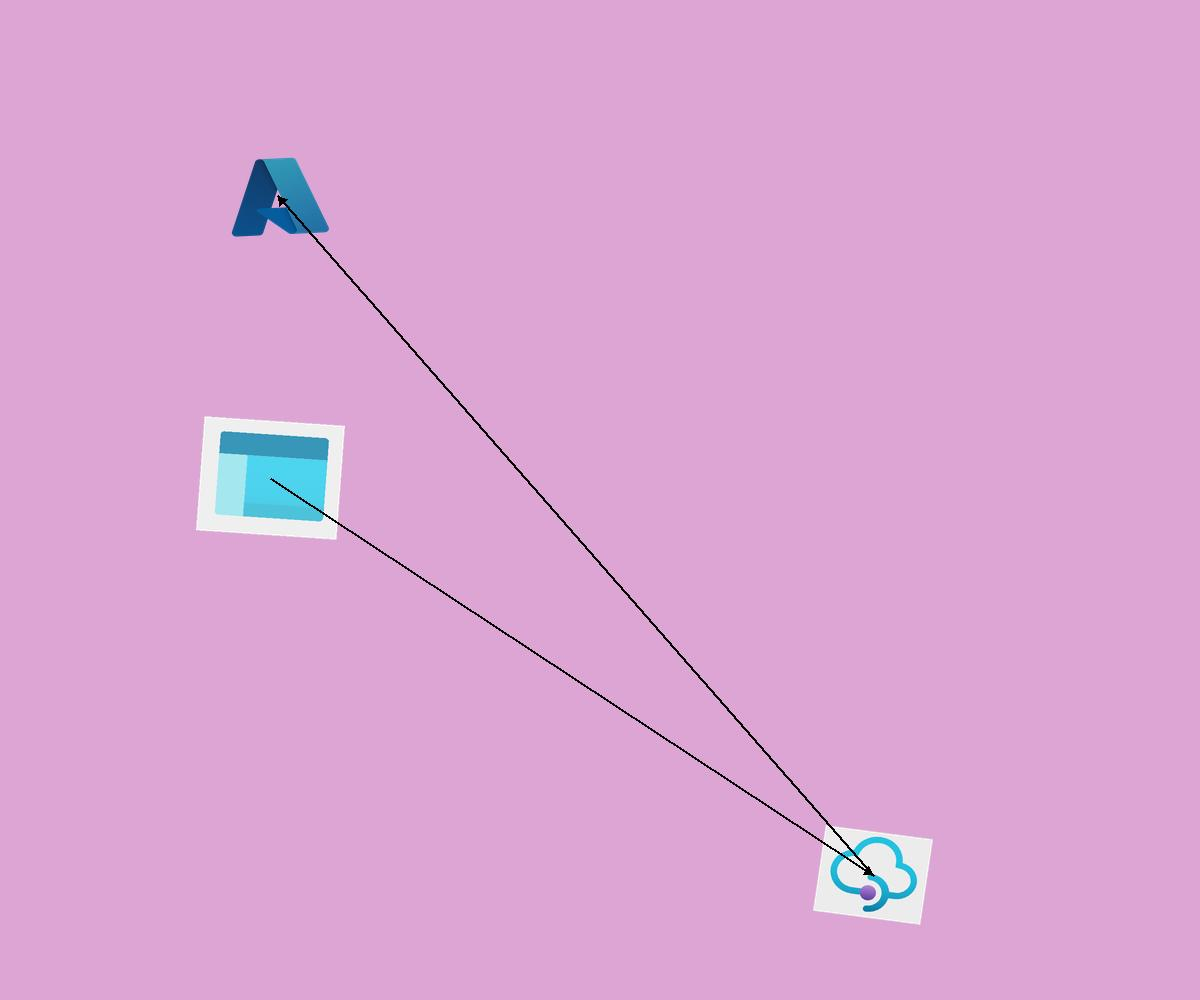Azure_api_gateway: (813, 825, 933, 925)
Azure_management-portal: (196, 416, 345, 540)
Azure_services: (222, 150, 334, 243)
